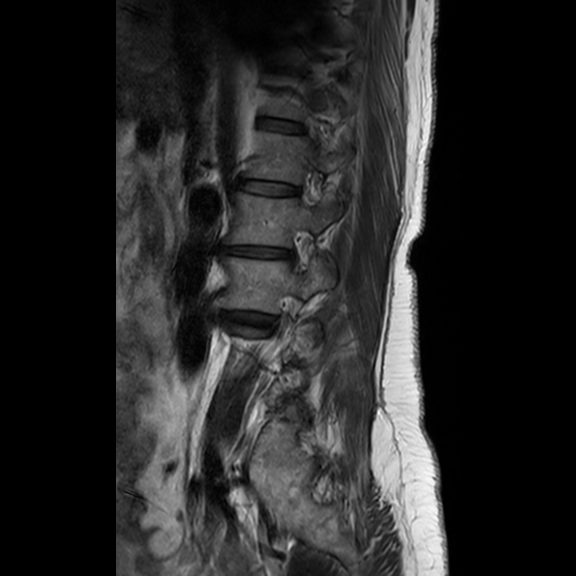RFS0: (285, 157, 328, 214), (280, 220, 320, 280)
